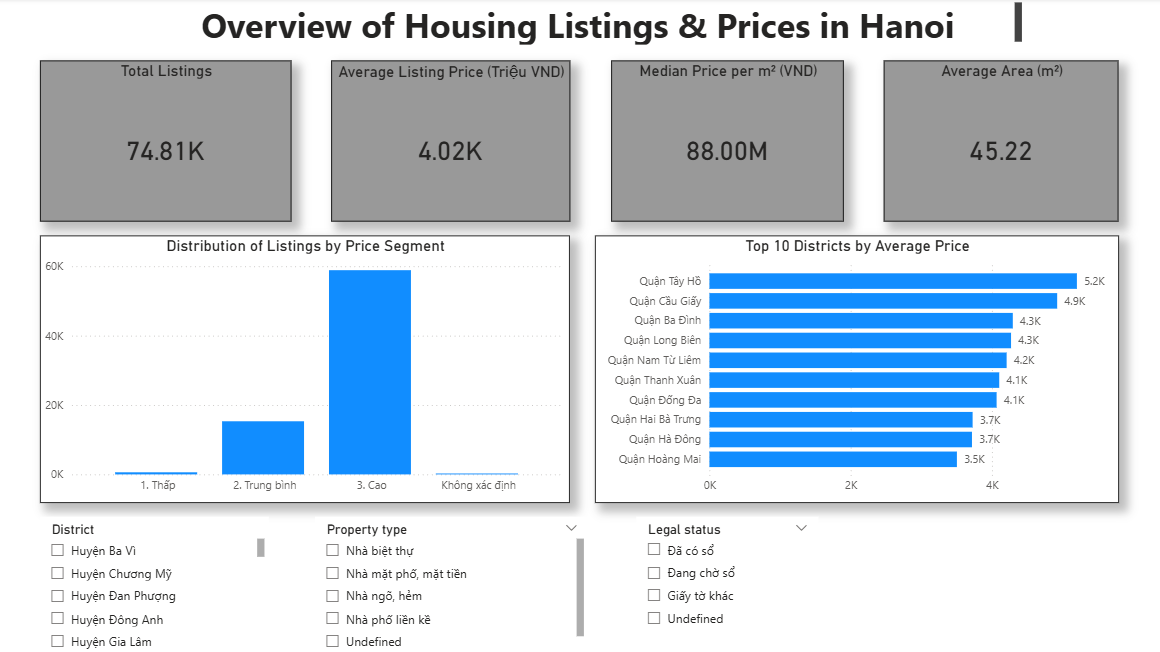

The page's visual inventory and layout, read from the dashboard file:
{"tool":"powerbi","page":{"name":"Market Overview","canvas":[1280,720],"ordinal":0},"visuals":[{"type":"card","title":"Total Listings","fields":{"Values":["CountNonNull(vw_housing_enriched.ID)"]},"box":[43.9,68.6,275.8,177],"z":0},{"type":"card","title":"Average Listing Price (Triệu VND)","fields":{"Values":["Avg(vw_housing_enriched.gia_trieu)"]},"box":[364.1,68.6,262.1,177],"z":1000},{"type":"card","title":"Median Price per m² (VND)","fields":{"Values":["Median(vw_housing_enriched.gia_vnd_m2)"]},"box":[670.6,68.6,255.2,177],"z":2000},{"type":"card","title":"Average Area (m²)","fields":{"Values":["Avg(vw_housing_enriched.Diện tích)"]},"box":[970.2,68.6,258,177],"z":3000},{"type":"clusteredColumnChart","title":"Distribution of Listings by Price Segment","fields":{"Category":["vw_housing_enriched.price_m2_bucket"],"Y":["CountNonNull(vw_housing_enriched.ID)"]},"box":[43.9,260.7,581.8,293.7],"z":4000},{"type":"barChart","title":"Top 10 Districts by Average Price","fields":{"Category":["vw_housing_enriched.Quận,huyện"],"Y":["Avg(vw_housing_enriched.gia_trieu)"]},"box":[653.2,260.7,575,293.7],"z":5000},{"type":"slicer","fields":{"Values":["vw_housing_enriched.Quận,huyện"]},"box":[43.9,569.5,251.1,150.9],"z":6000},{"type":"slicer","fields":{"Values":["vw_housing_enriched.Loại hình nhà ở"]},"box":[345.8,569.5,300.5,148.2],"z":7000},{"type":"slicer","fields":{"Values":["vw_housing_enriched.Giấy tờ pháp lý"]},"box":[698.5,569.5,200.3,150.9],"z":8000},{"type":"textbox","box":[215.4,0,911.2,56.3],"z":9000}]}

Visuals, with their boxes in screenshot pixels (x1, y1, x2, y2), scaled from the page's 1280x720 canvas onto the 1160x652 screenshot:
"Total Listings" card: detection(40, 62, 290, 222)
"Average Listing Price (Triệu VND)" card: detection(330, 62, 567, 222)
"Median Price per m² (VND)" card: detection(608, 62, 839, 222)
"Average Area (m²)" card: detection(879, 62, 1113, 222)
"Distribution of Listings by Price Segment" clusteredColumnChart: detection(40, 236, 567, 502)
"Top 10 Districts by Average Price" barChart: detection(592, 236, 1113, 502)
slicer - vw_housing_enriched.Quận,huyện: detection(40, 516, 267, 651)
slicer - vw_housing_enriched.Loại hình nhà ở: detection(313, 516, 586, 650)
slicer - vw_housing_enriched.Giấy tờ pháp lý: detection(633, 516, 815, 651)
textbox: detection(195, 0, 1021, 51)
